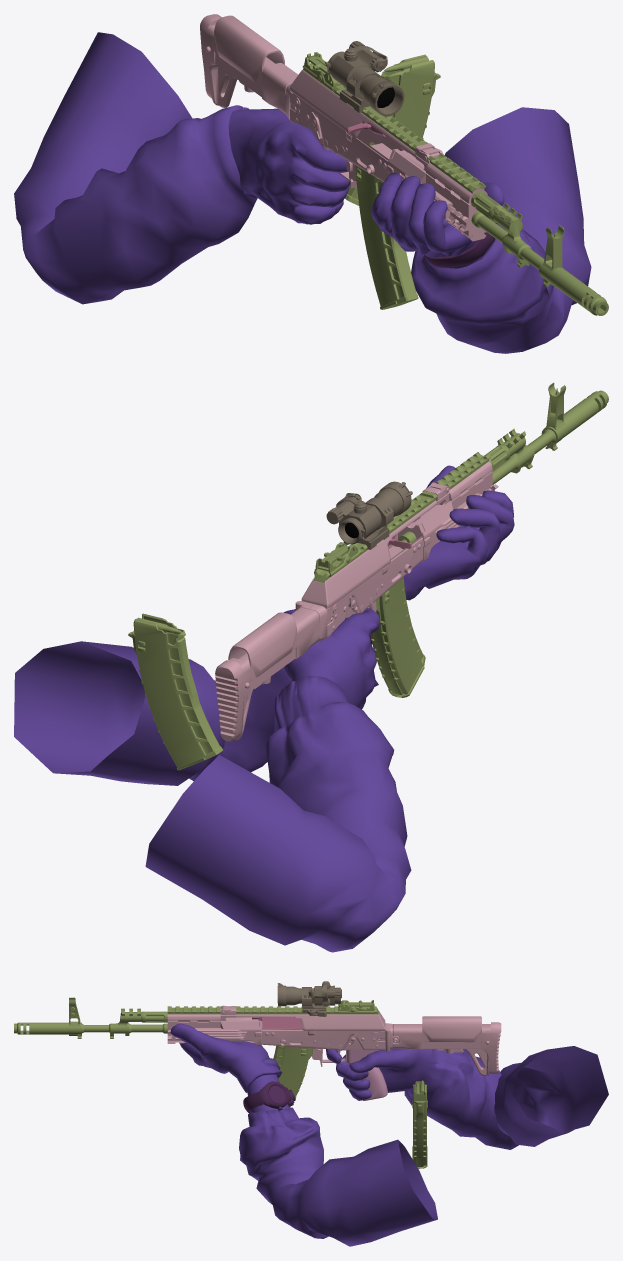
The picture shows the model from 3 angles, top to bottom: view 1: azimuth 30°, elevation 25°; view 2: azimuth 150°, elevation 25°; view 3: azimuth 270°, elevation 25°; orthographic projection. The views are drawn at different scales.
Parts seen in each view (by area): view 1: Requests_Studio_Hands, mtl_weapon_ak12_weapon_ak12_col_tga_001, stock, barrel, mag, aim, mag_001, rail, watch, rearsight; view 2: Requests_Studio_Hands, mtl_weapon_ak12_weapon_ak12_col_tga_001, mag_001, stock, mag, barrel, aim, rail, rearsight; view 3: Requests_Studio_Hands, mtl_weapon_ak12_weapon_ak12_col_tga_001, stock, barrel, aim, mag, rail, mag_001, watch, Group_10, TomGroup_4, rearsight.
Boxes of the visible parts, left/top/right/bottom form: Requests_Studio_Hands: left=14, top=32, right=591, bottom=353; mtl_weapon_ak12_weapon_ak12_col_tga_001: left=289, top=69, right=487, bottom=241; stock: left=200, top=14, right=298, bottom=119; barrel: left=471, top=191, right=608, bottom=315; mag: left=355, top=142, right=418, bottom=309; aim: left=325, top=41, right=404, bottom=116; mag_001: left=345, top=54, right=440, bottom=205; rail: left=302, top=65, right=486, bottom=193; watch: left=424, top=222, right=497, bottom=267; rearsight: left=303, top=52, right=341, bottom=91; Requests_Studio_Hands: left=14, top=465, right=514, bottom=952; mtl_weapon_ak12_weapon_ak12_col_tga_001: left=301, top=461, right=498, bottom=638; mag_001: left=128, top=613, right=222, bottom=770; stock: left=215, top=601, right=327, bottom=741; mag: left=370, top=577, right=425, bottom=697; barrel: left=398, top=382, right=608, bottom=549; aim: left=326, top=481, right=412, bottom=549; rail: left=314, top=452, right=490, bottom=582; rearsight: left=314, top=542, right=359, bottom=576; Requests_Studio_Hands: left=170, top=1023, right=608, bottom=1246; mtl_weapon_ak12_weapon_ak12_col_tga_001: left=167, top=1005, right=385, bottom=1066; stock: left=385, top=1016, right=501, bottom=1075; barrel: left=14, top=997, right=167, bottom=1038; aim: left=277, top=981, right=341, bottom=1016; mag: left=273, top=1045, right=313, bottom=1107; rail: left=167, top=1006, right=379, bottom=1014; mag_001: left=412, top=1081, right=427, bottom=1168; watch: left=243, top=1081, right=295, bottom=1113; Group_10: left=346, top=1050, right=387, bottom=1100; TomGroup_4: left=258, top=1017, right=302, bottom=1029; rearsight: left=338, top=1000, right=374, bottom=1013.
Bounding box in the file's own units: 102 × 67.99 × 179.
